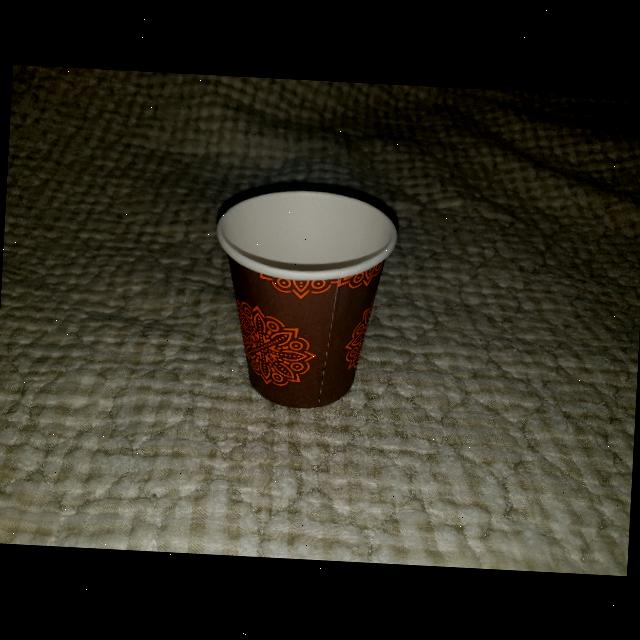trash: (200, 178, 406, 420)
